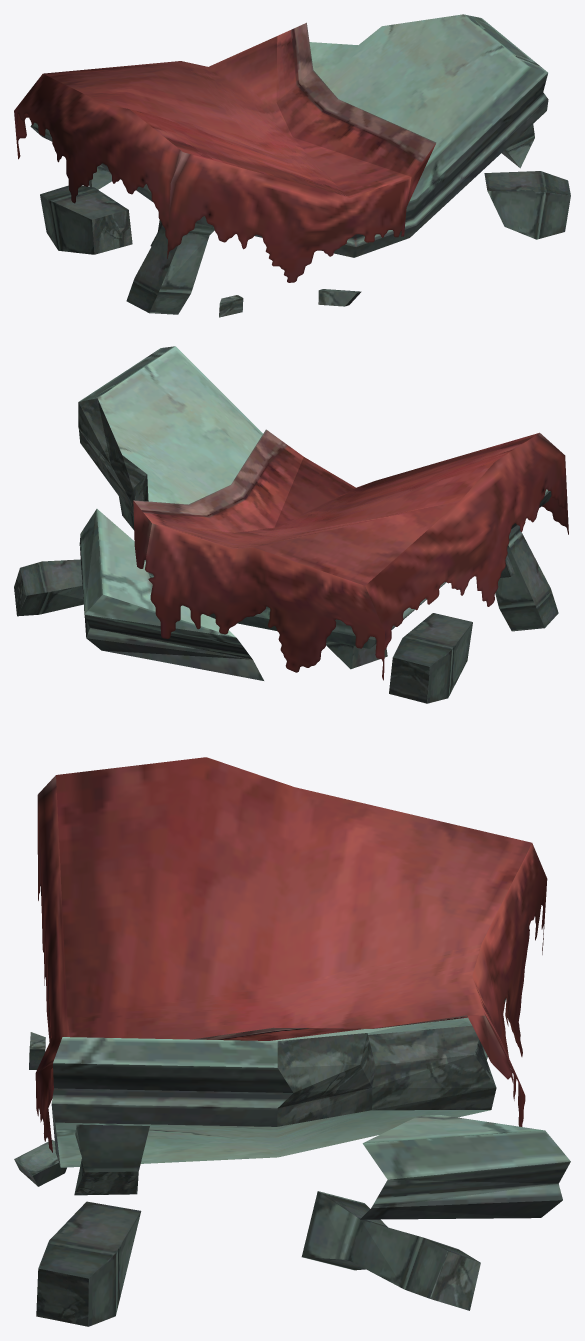
File: crypt_brokentable01.fbx
The picture shows the model from 3 angles, top to bottom: view 1: azimuth 30°, elevation 25°; view 2: azimuth 150°, elevation 25°; view 3: azimuth 270°, elevation 25°; orthographic projection. The views are drawn at different scales.
Visible parts, largest first — view 1: crypt_brokentable01-0; view 2: crypt_brokentable01-0; view 3: crypt_brokentable01-0.
Part boxes in pixels (bbox=[...]): crypt_brokentable01-0: bbox=[14, 14, 570, 317]; crypt_brokentable01-0: bbox=[14, 346, 568, 703]; crypt_brokentable01-0: bbox=[14, 757, 570, 1326].
Size of the model in its own units: 3.67 by 1.61 by 2.65.
